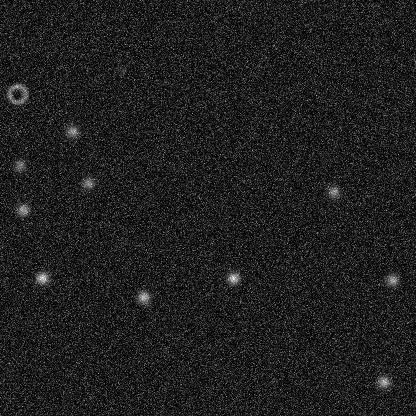Ring: (5, 81, 29, 105)
Spot: (375, 373, 391, 389), (384, 272, 400, 288), (15, 201, 31, 217), (80, 175, 96, 191), (64, 123, 80, 139), (34, 269, 50, 285), (11, 157, 27, 173), (325, 183, 341, 199), (225, 270, 241, 286), (112, 60, 128, 76), (135, 289, 151, 305)
